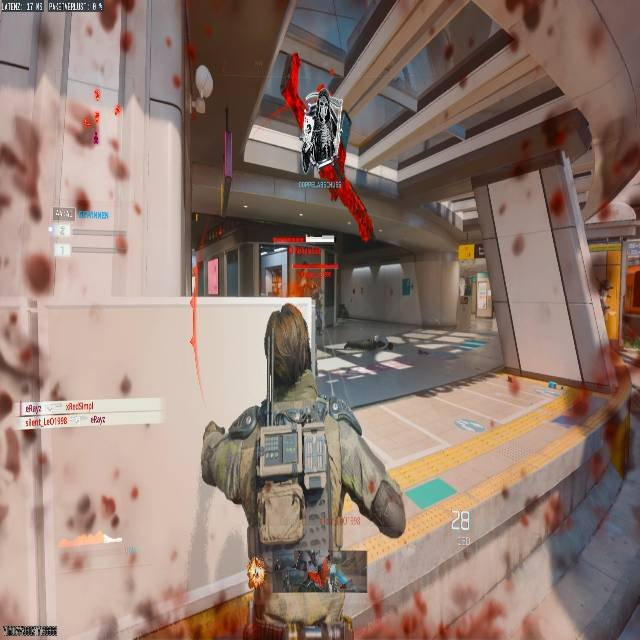player: (197, 298, 405, 639)
